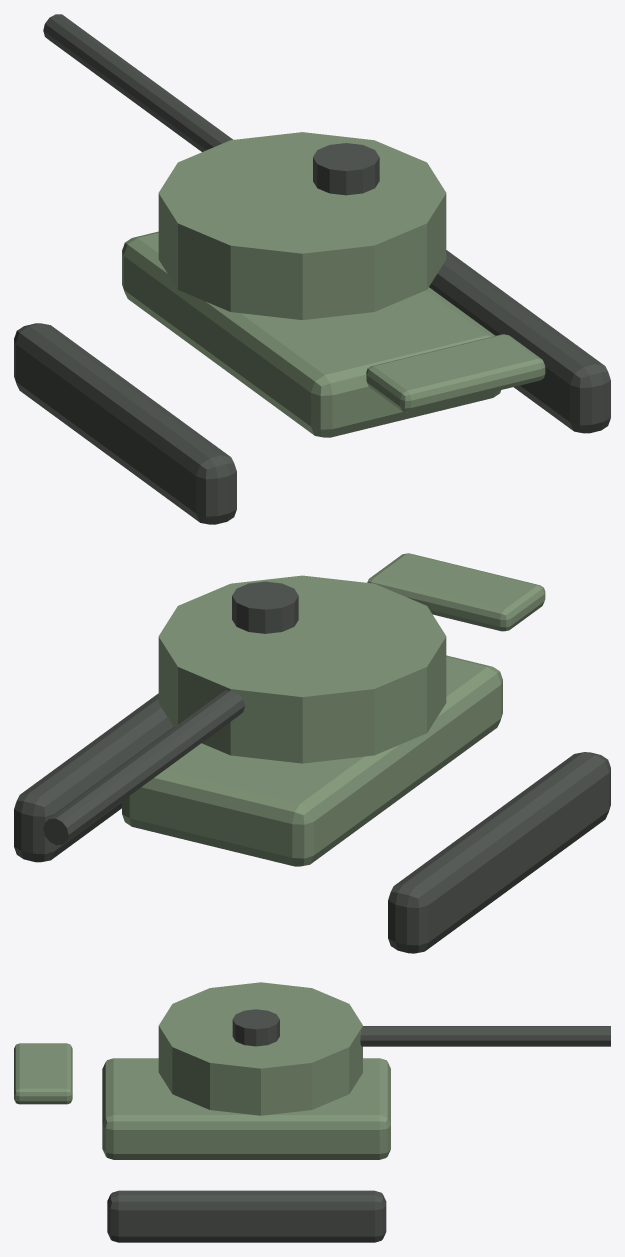
The model's file is russia_t90m.glb.
3 renders of one model, top to bottom at view 1: azimuth 30°, elevation 25°; view 2: azimuth 150°, elevation 25°; view 3: azimuth 270°, elevation 25°, orthographic. The views are drawn at different scales.
Parts seen in each view (by area): view 1: turret, hull, left_track, right_track, rear_deck, gun, cupola; view 2: turret, hull, left_track, right_track, rear_deck, gun, cupola; view 3: turret, hull, right_track, gun, rear_deck, cupola.
Boxes of the visible parts, x1=… form: turret: x1=158, y1=132, x2=446, y2=319; hull: x1=122, y1=231, x2=500, y2=437; left_track: x1=14, y1=323, x2=236, y2=524; right_track: x1=429, y1=250, x2=610, y2=433; rear_deck: x1=366, y1=334, x2=545, y2=412; gun: x1=43, y1=14, x2=233, y2=151; cupola: x1=313, y1=143, x2=379, y2=195; turret: x1=158, y1=575, x2=446, y2=763; hull: x1=122, y1=655, x2=502, y2=866; left_track: x1=388, y1=752, x2=610, y2=953; right_track: x1=14, y1=693, x2=173, y2=862; rear_deck: x1=367, y1=553, x2=545, y2=631; gun: x1=43, y1=690, x2=244, y2=845; cupola: x1=232, y1=581, x2=298, y2=633; turret: x1=158, y1=982, x2=362, y2=1115; hull: x1=102, y1=1058, x2=390, y2=1159; right_track: x1=107, y1=1190, x2=386, y2=1242; gun: x1=360, y1=1026, x2=610, y2=1046; rear_deck: x1=14, y1=1043, x2=72, y2=1104; cupola: x1=232, y1=1009, x2=279, y2=1046.
Bounding box in the file's own units: 3.58 × 1.99 × 6.31.
